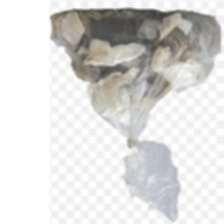plastic_bag: (47, 1, 224, 224)
